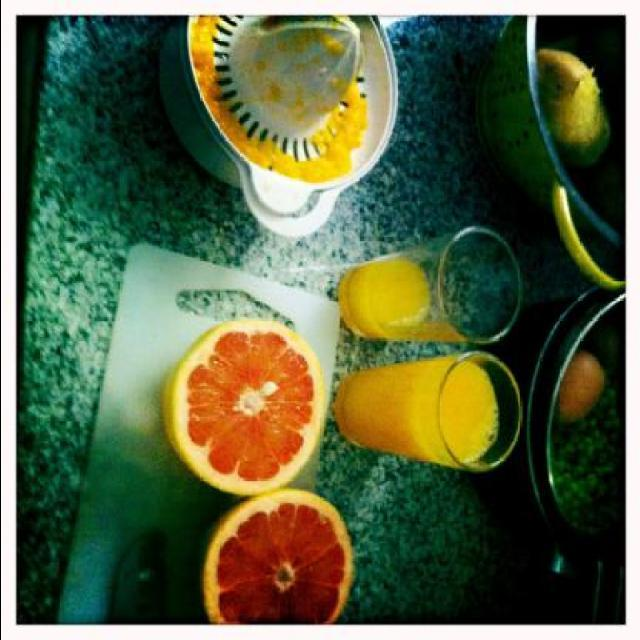Juice: (324, 349, 536, 474), (347, 252, 427, 342)
